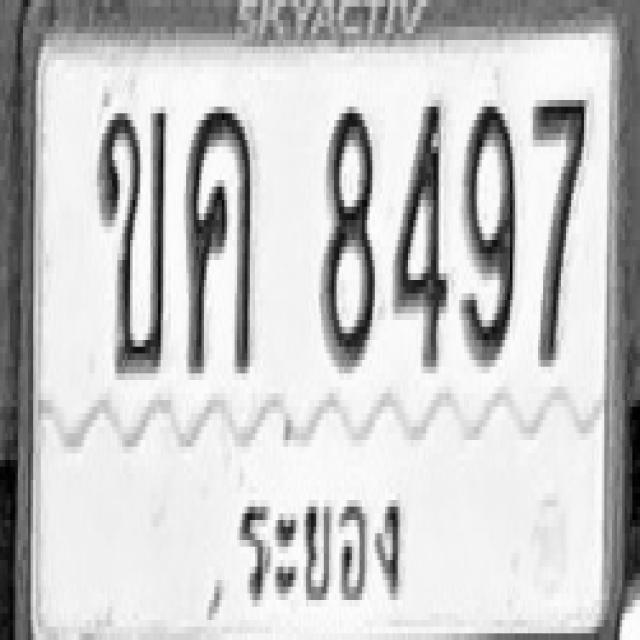11KhorKhai: (97, 103, 166, 370)
13KhorKhwai: (185, 100, 254, 367)
4: (393, 93, 446, 367)
7: (532, 93, 588, 360)
8: (321, 97, 375, 363)
9: (462, 97, 515, 363)
Rayong: (227, 459, 418, 626)
